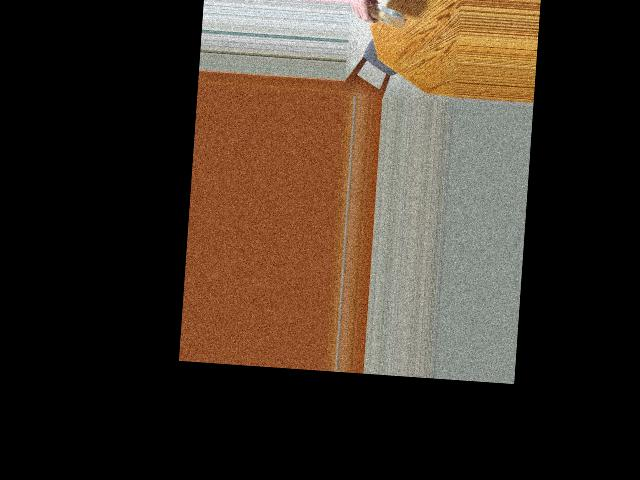cheese: (367, 1, 401, 31)
